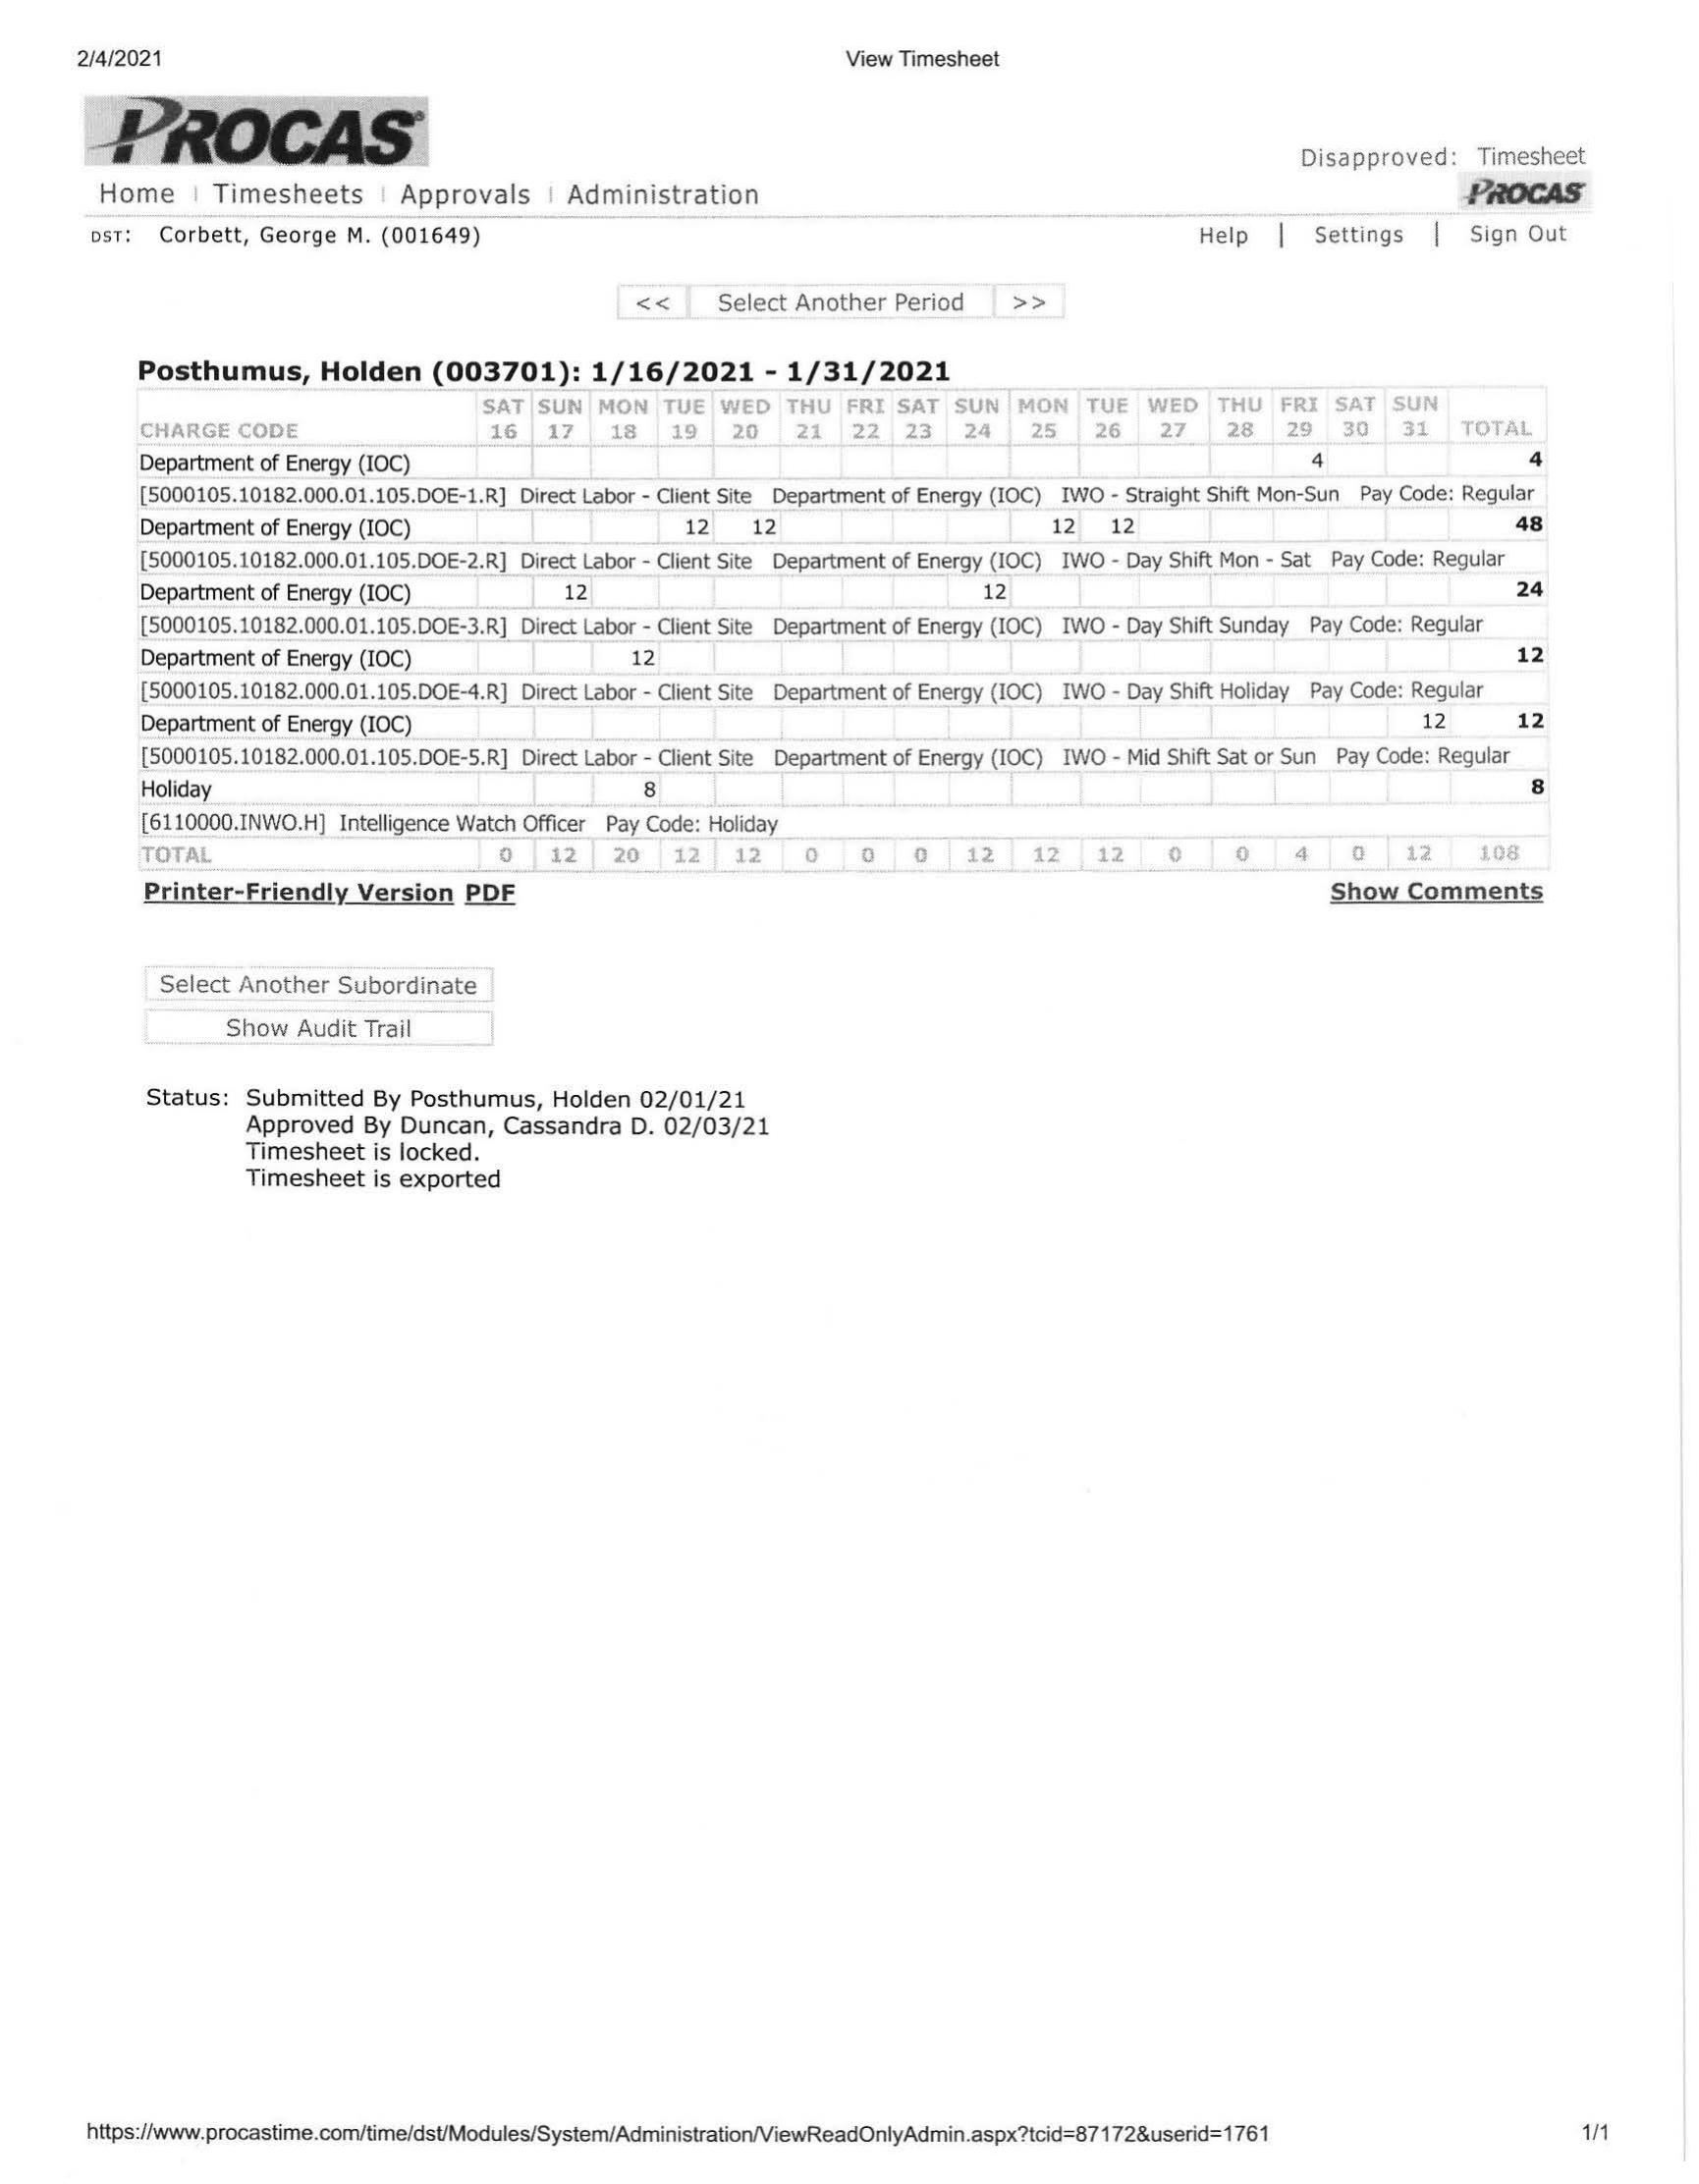table: (129, 383, 1557, 867)
